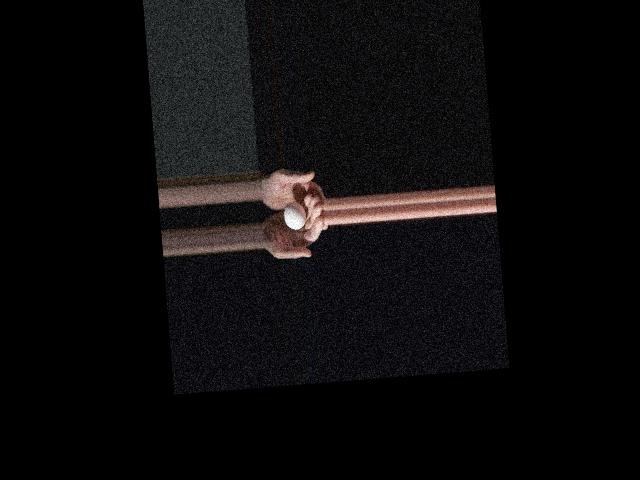egg: (282, 200, 307, 231)
